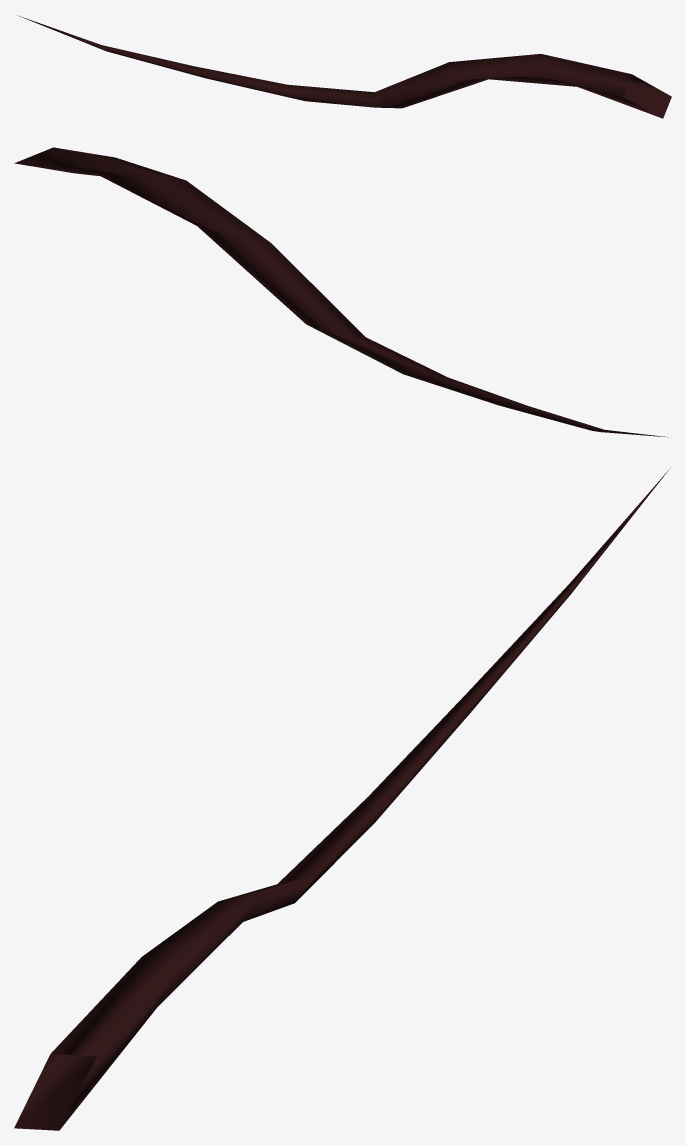
The model's file is SM_Branch05.fbx.
3 renders of one model, top to bottom at view 1: azimuth 30°, elevation 25°; view 2: azimuth 150°, elevation 25°; view 3: azimuth 270°, elevation 25°, orthographic. The views are drawn at different scales.
Parts seen in each view (by area): view 1: SM_Branch05; view 2: SM_Branch05; view 3: SM_Branch05.
Part boxes in pixels (bbox=[...]): SM_Branch05: bbox=[18, 15, 671, 118]; SM_Branch05: bbox=[14, 147, 667, 437]; SM_Branch05: bbox=[14, 469, 669, 1130].
Size of the model in its own units: 21.18 by 12.17 by 4.04.
